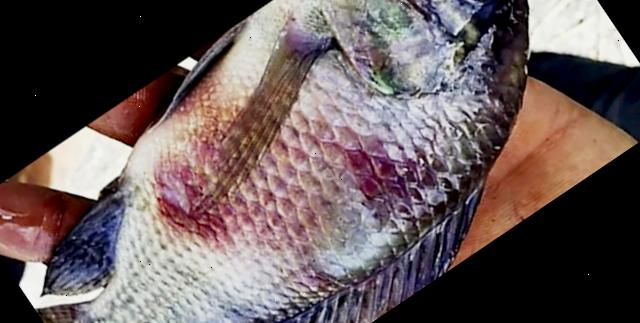Tilapia Lake Virus -TiLV-: (35, 0, 528, 323), (36, 0, 528, 323)
